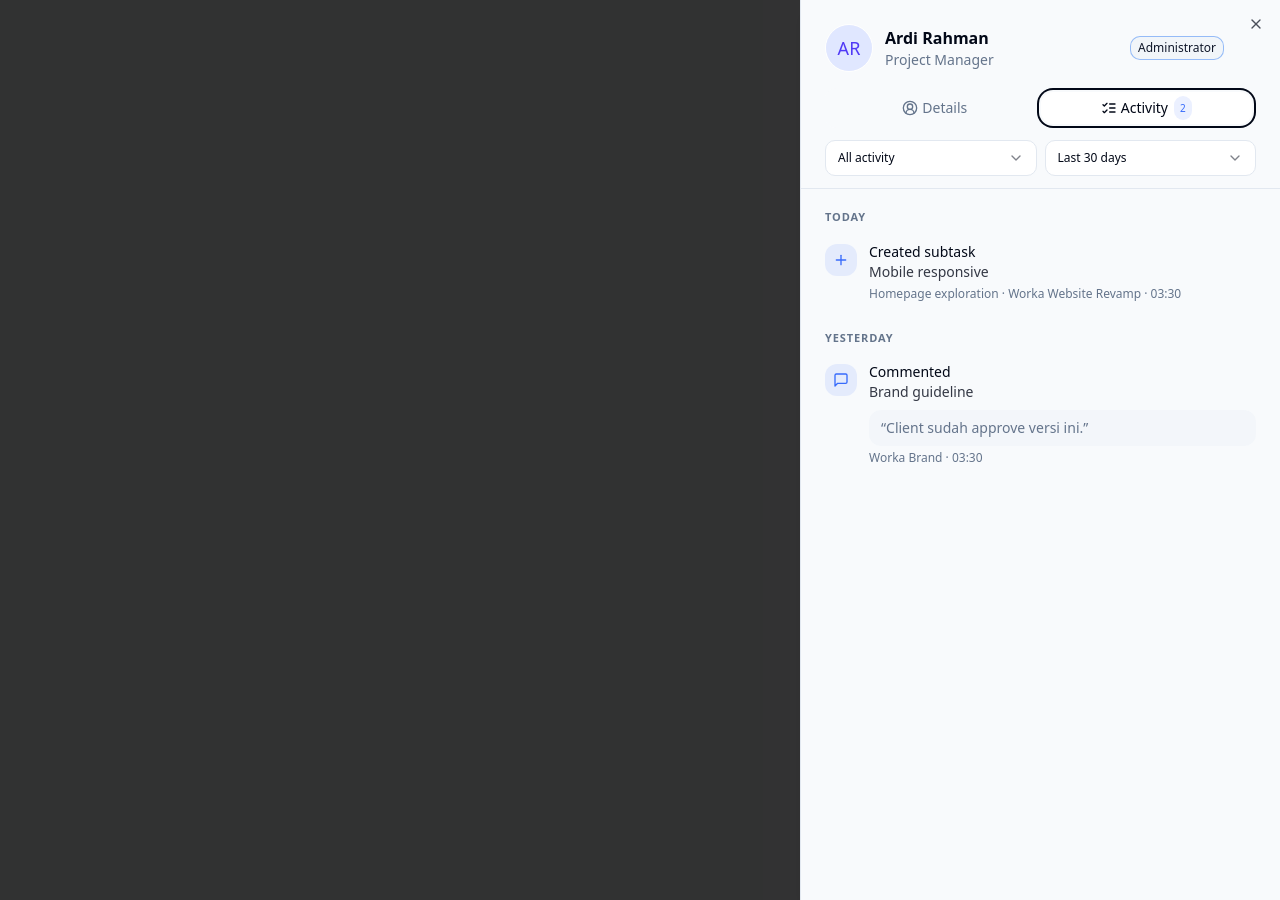
TeamMemberDetailsSheet › filters the feed to comments
This screenshot has width=1280, height=900.
Click the dropdown named "Activity type": click(931, 158) [825,140,1036,176]
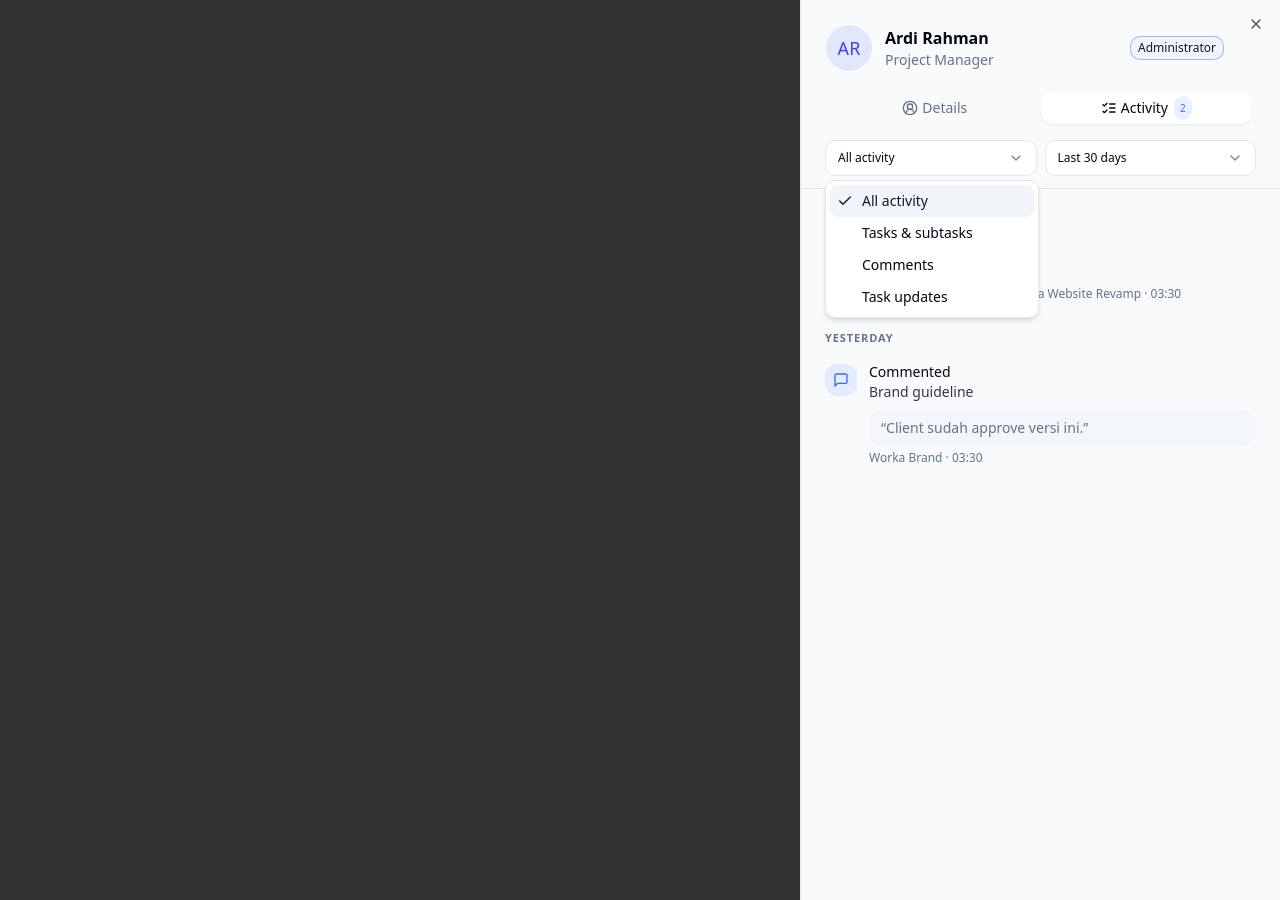
Click the option "Comments": click(898, 264) [862,255,934,274]
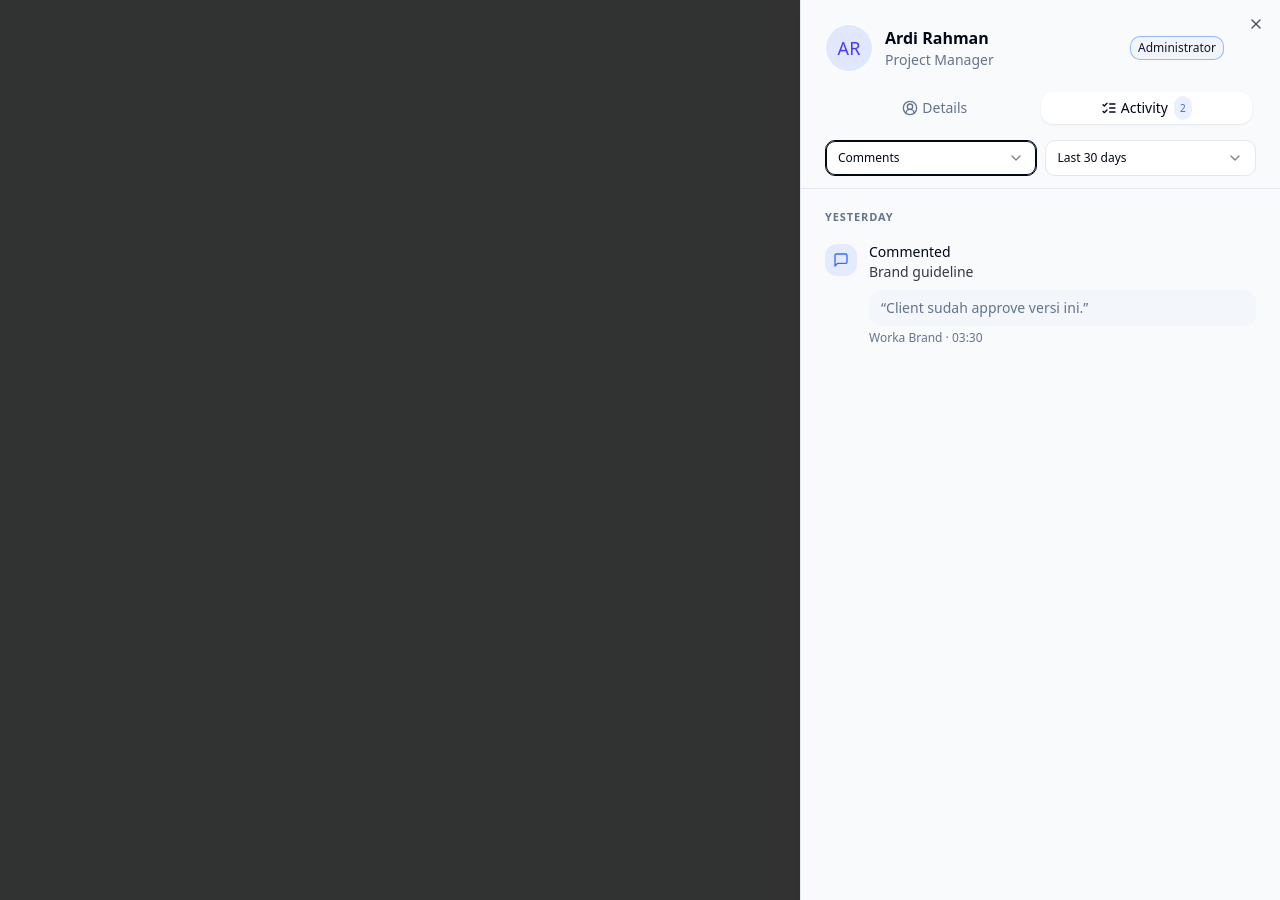
Check: the text "Commented" is shown, box [869,242,951,260]
Check: the text "Created subtask" is gone
